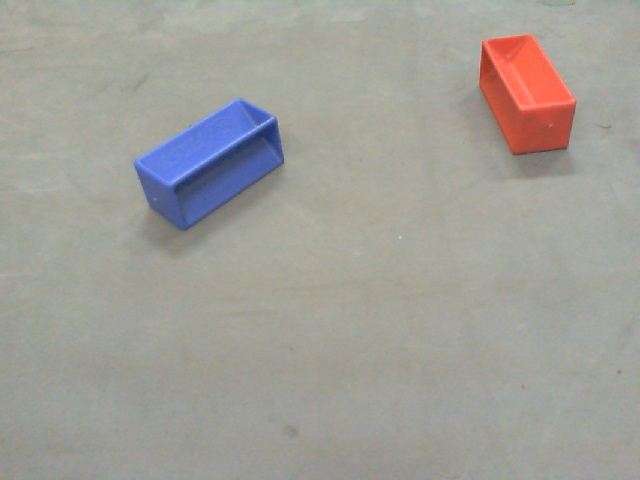BlueSample: (130, 96, 288, 235)
RedSample: (478, 32, 579, 161)
